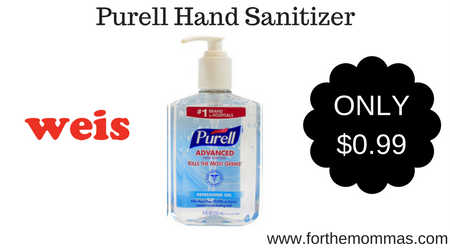Sanitizer: (164, 31, 267, 230)
